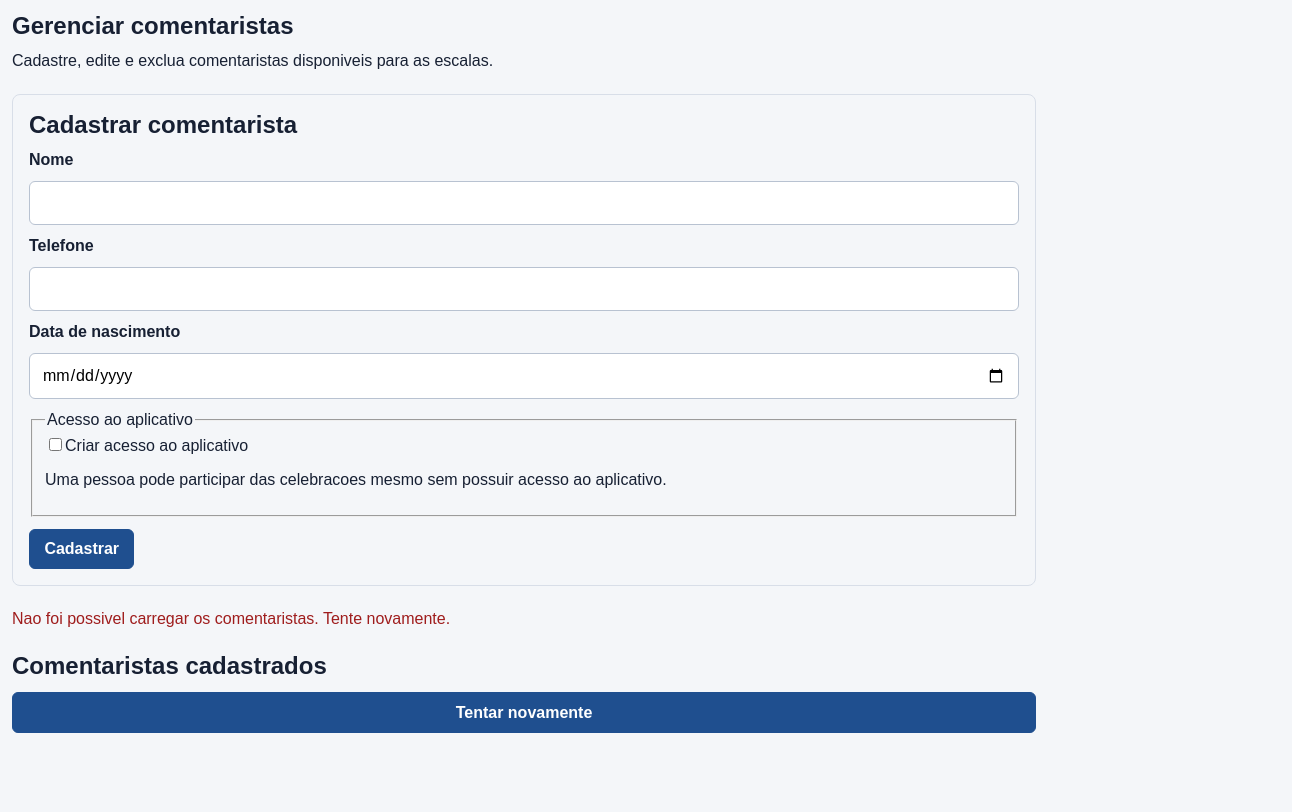
CommentatorManagementComponent › should show loading errors and retry
Click the button "Tentar novamente" at (524, 713), box [12,692,1036,733]
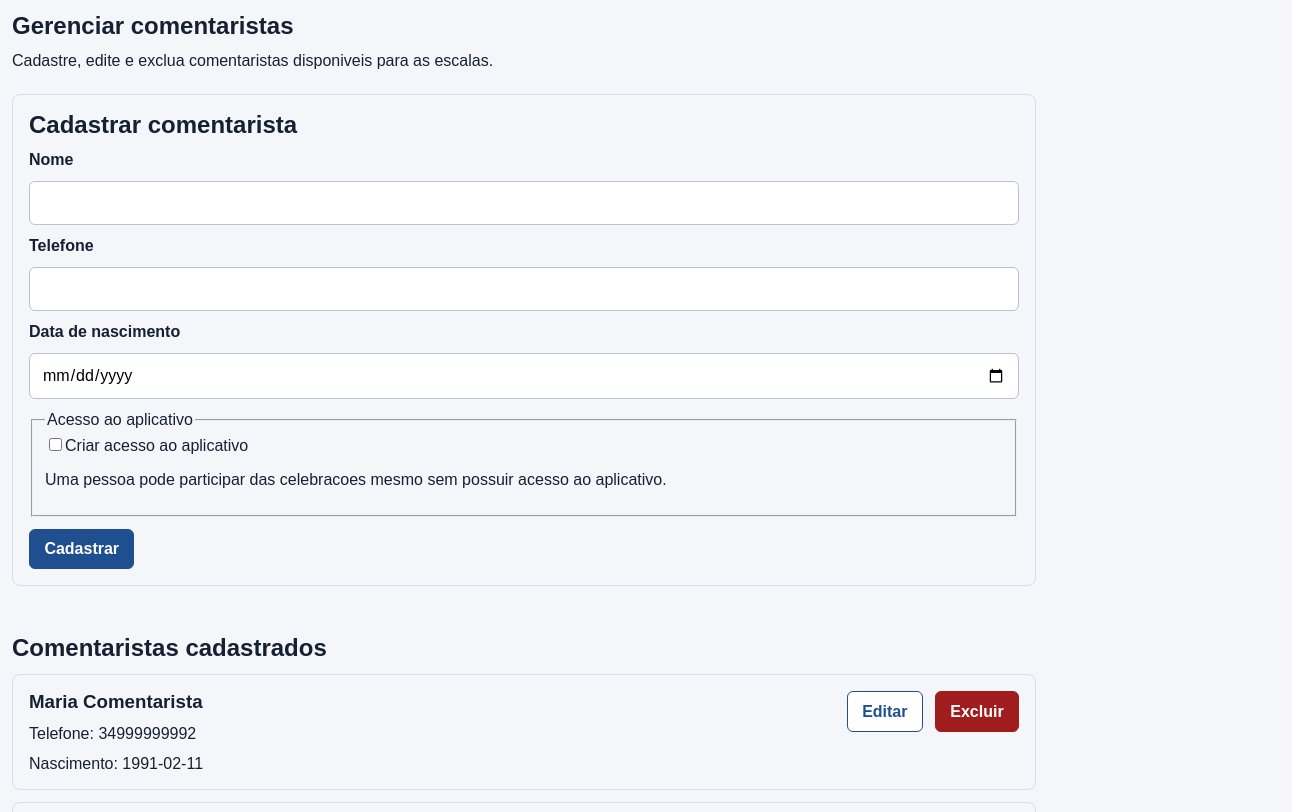
Now the text "Maria Comentarista" is shown, box [29,691,203,712]
